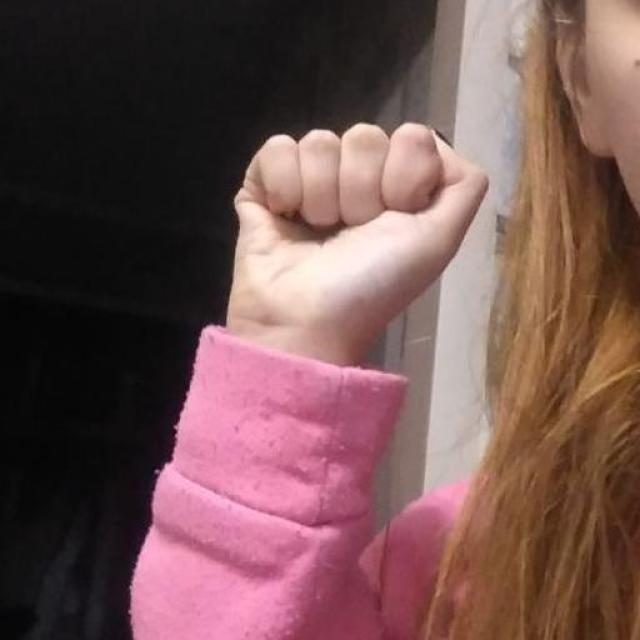hand: (224, 119, 490, 366)
